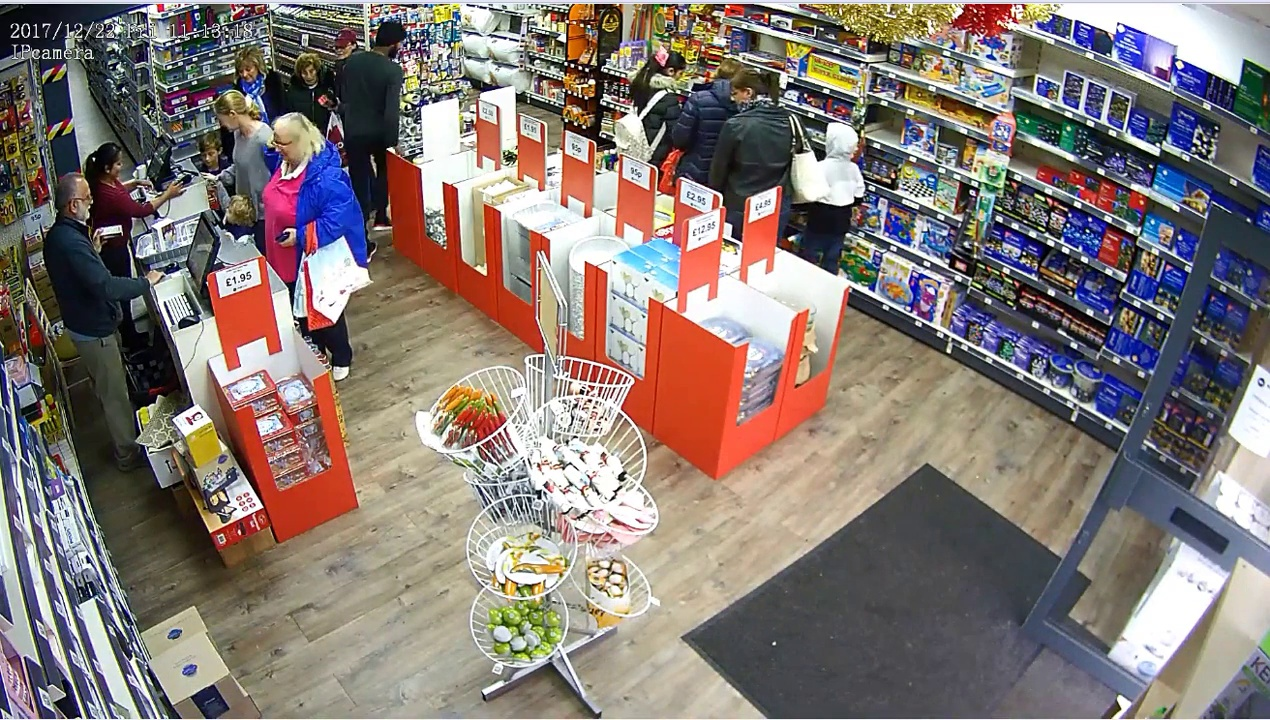face: (270, 125, 296, 162), (69, 184, 96, 216), (233, 58, 261, 85), (296, 61, 318, 85), (334, 40, 352, 61), (198, 151, 219, 167)
